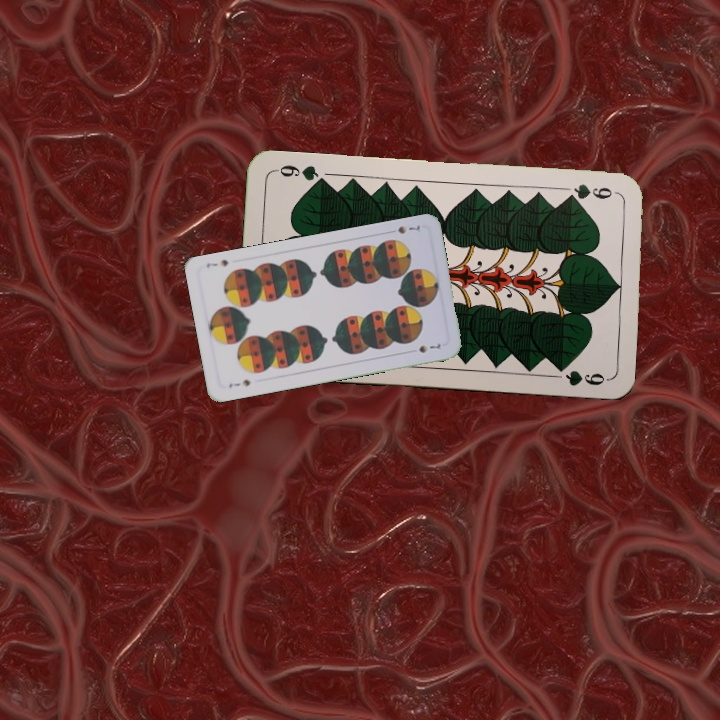G9: (561, 180, 620, 203)
S7: (394, 221, 424, 236), (225, 375, 253, 391)
